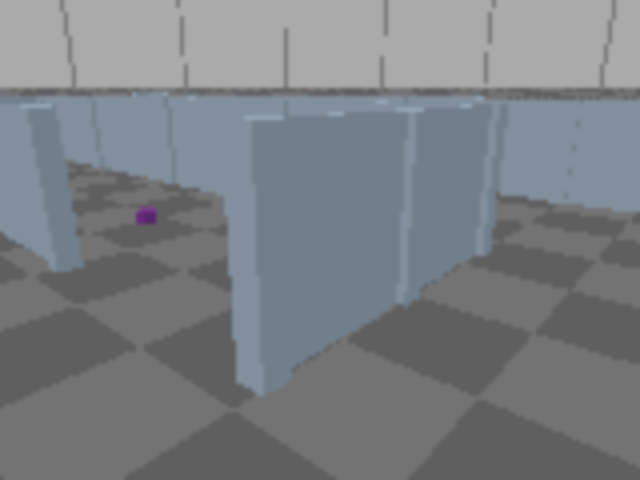puck: (137, 208, 157, 224)
